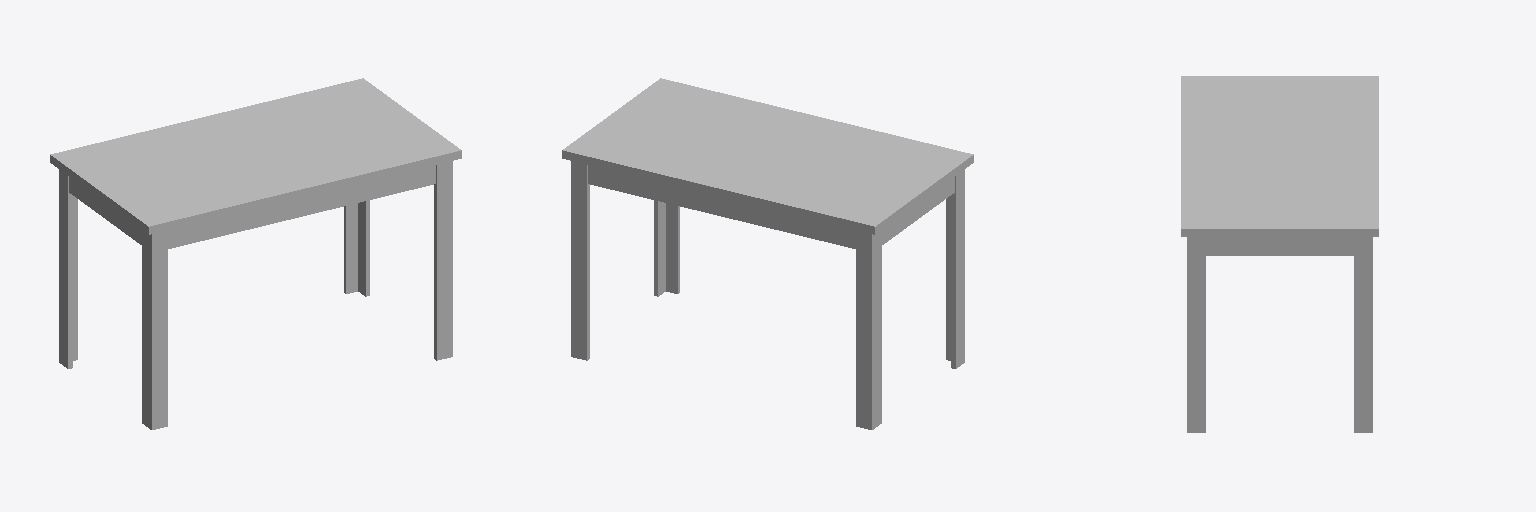
The model's file is Прайм.obj.
3 renders of one model, left to right at view 1: azimuth 30°, elevation 25°; view 2: azimuth 150°, elevation 25°; view 3: azimuth 270°, elevation 25°, orthographic.
Visible parts, largest first — view 1: Cube.001_Cube.002; view 2: Cube.001_Cube.002; view 3: Cube.001_Cube.002.
Boxes of the visible parts, x1,y1,x2,y2 form: Cube.001_Cube.002: [50, 78, 461, 429]; Cube.001_Cube.002: [562, 78, 973, 429]; Cube.001_Cube.002: [1181, 76, 1378, 432].
Bounding box in the file's own units: 2.2 × 1.39 × 1.2.